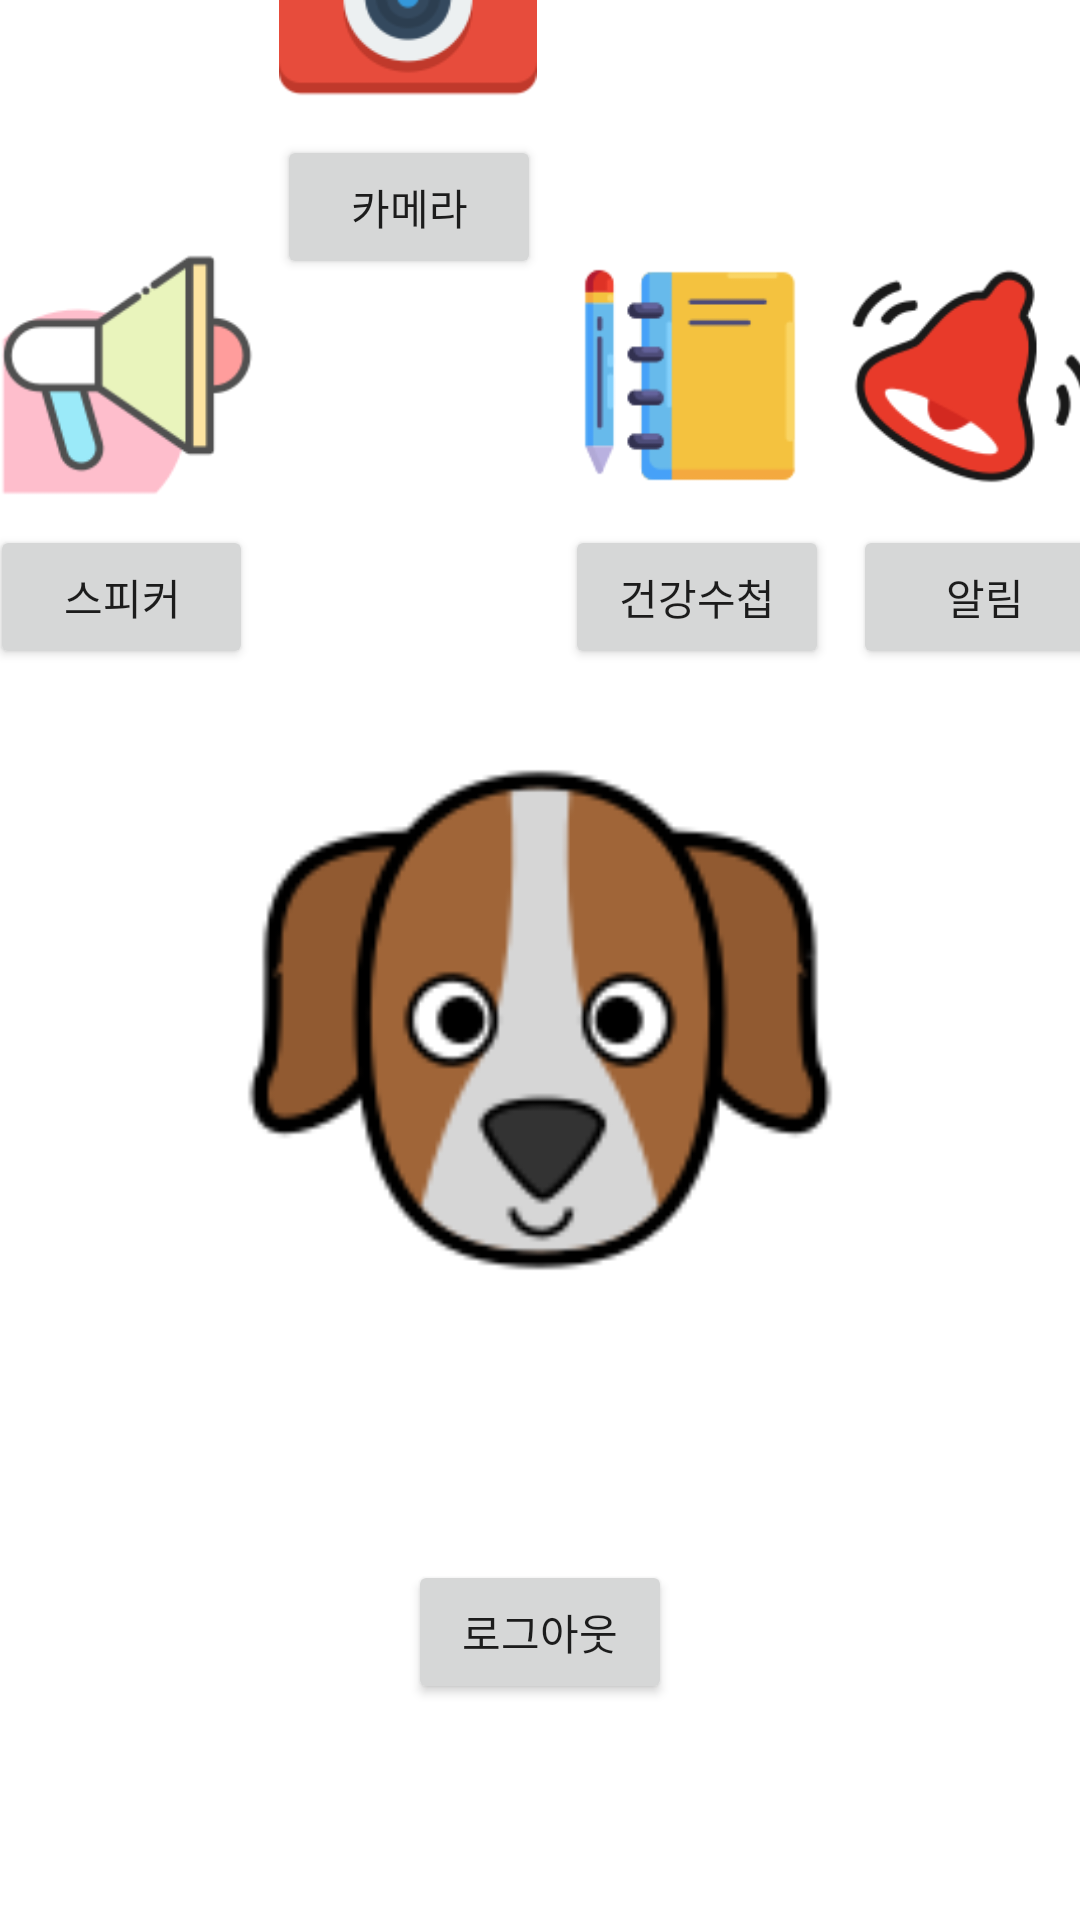

Named icons in this screenshot (1080w x 1920h) and their centers, (x=x, y=y):
alarm: (x=966, y=376)
health note: (x=689, y=375)
